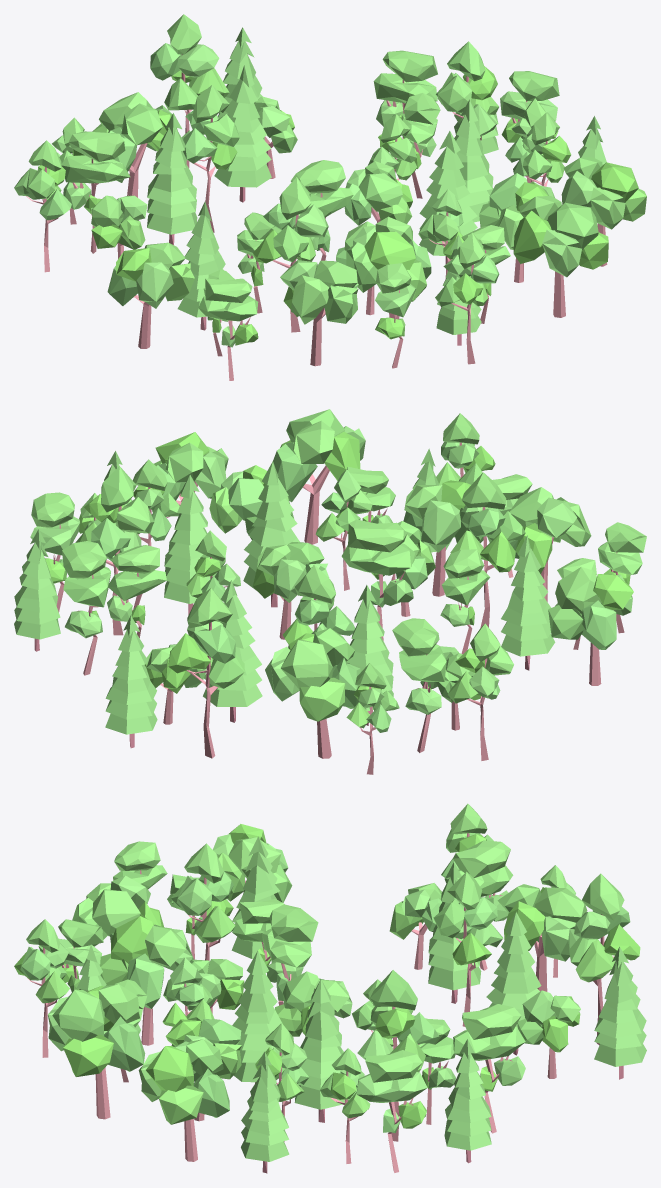
File: ForestMainRail2.fbx
3 views of the same model, one above another, from view 1: azimuth 30°, elevation 25°; view 2: azimuth 150°, elevation 25°; view 3: azimuth 270°, elevation 25° (orthographic). The views are drawn at different scales.
Visible parts, largest first — view 1: Forest.005; view 2: Forest.005; view 3: Forest.005.
Boxes of the visible parts, x1,y1,x2,y2 form: Forest.005: [14, 14, 646, 380]; Forest.005: [14, 409, 646, 774]; Forest.005: [14, 803, 646, 1173].
Bounding box in the file's own units: 1352 × 415 × 1392.
